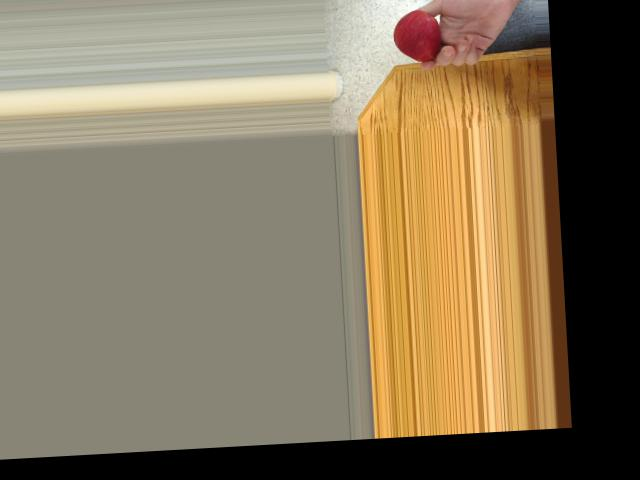apple: (390, 5, 448, 63)
